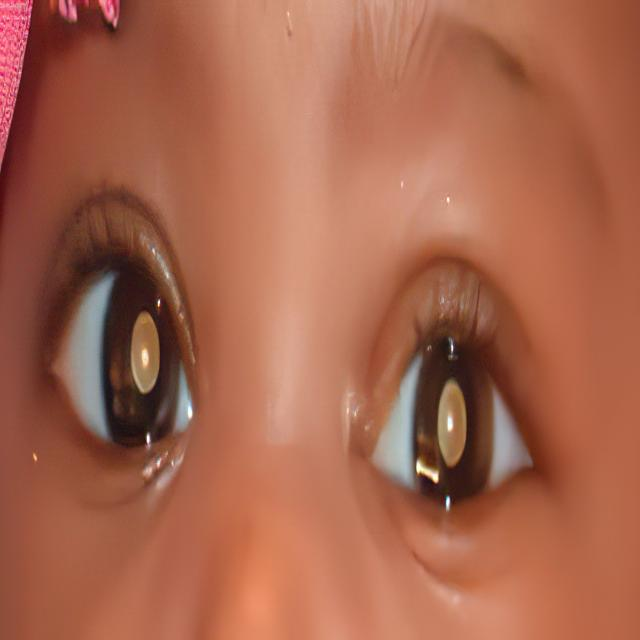reflexo-alterado: (361, 249, 548, 570), (40, 206, 193, 492)
